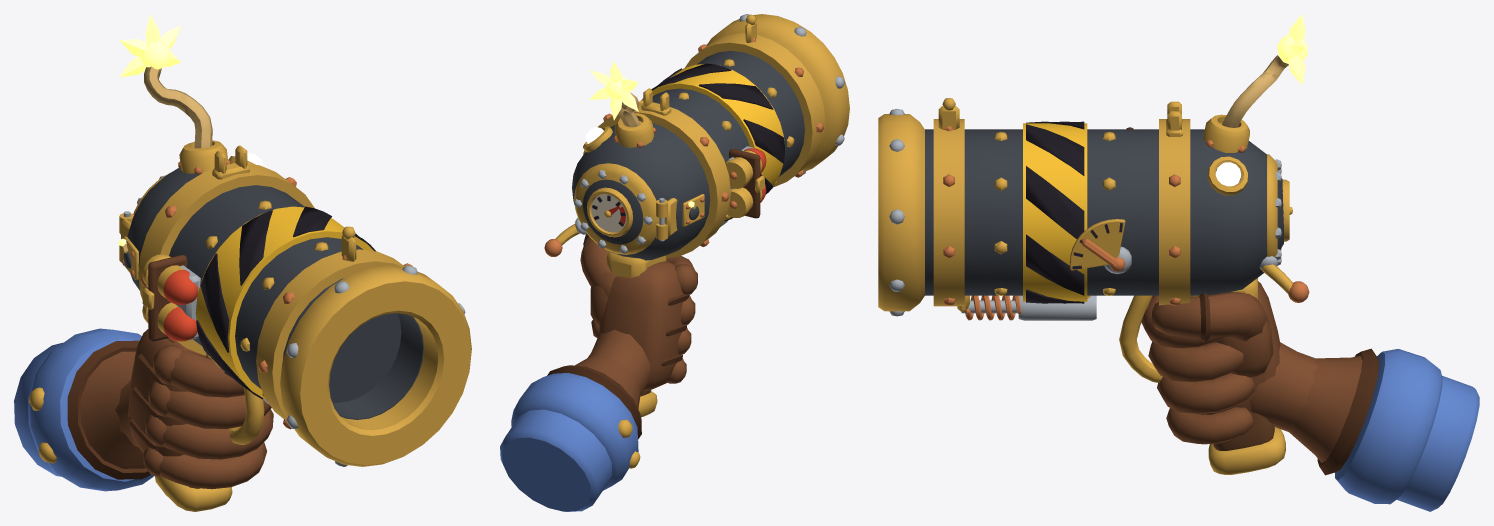
Rendered from vm_boom_mortar.glb.
3 renders of one model, left to right at view 1: azimuth 30°, elevation 25°; view 2: azimuth 150°, elevation 25°; view 3: azimuth 270°, elevation 25°, orthographic. The views are drawn at different scales.
Visible parts, largest first — view 1: BoomMortar, Glove; view 2: BoomMortar, Glove; view 3: BoomMortar, Glove.
Part boxes in pixels (<box>): BoomMortar: <box>119,14,471,511</box>; Glove: <box>14,328,273,491</box>; BoomMortar: <box>544,14,849,417</box>; Glove: <box>500,234,697,511</box>; BoomMortar: <box>878,14,1309,474</box>; Glove: <box>1141,281,1479,511</box>.
Size of the model in its own units: 0.2135 by 0.5192 by 0.5782.
